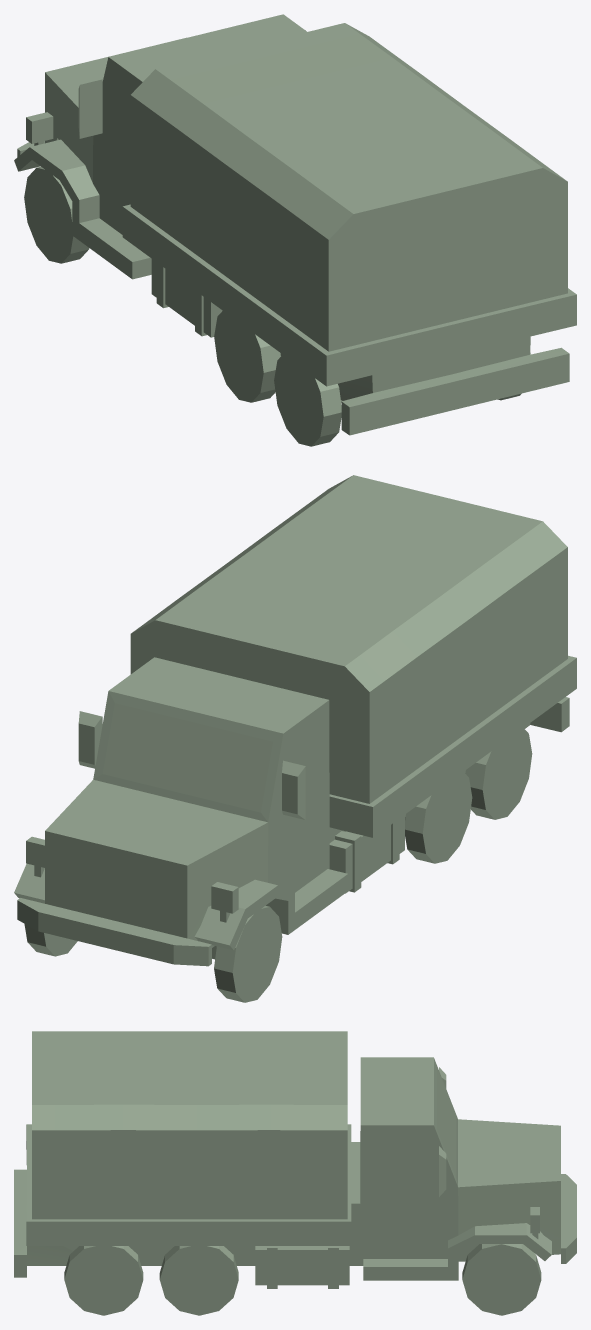
File: truck_troop_02.fbx
3 renders of one model, top to bottom at view 1: azimuth 30°, elevation 25°; view 2: azimuth 150°, elevation 25°; view 3: azimuth 270°, elevation 25°, orthographic. The views are drawn at different scales.
Visible parts, largest first — view 1: truck_troop_02, wheel_fl; view 2: truck_troop_02, wheel_fl, wheel_fr; view 3: truck_troop_02, wheel_fr.
Part boxes in pixels (<box>): truck_troop_02: <box>14,14,576,446</box>; wheel_fl: <box>24,166,89,263</box>; truck_troop_02: <box>14,475,576,966</box>; wheel_fl: <box>214,905,282,1002</box>; wheel_fr: <box>24,924,77,956</box>; truck_troop_02: <box>14,1031,576,1315</box>; wheel_fr: <box>462,1244,541,1315</box>.
Size of the model in its own units: 4.42 by 4.39 by 10.81.
